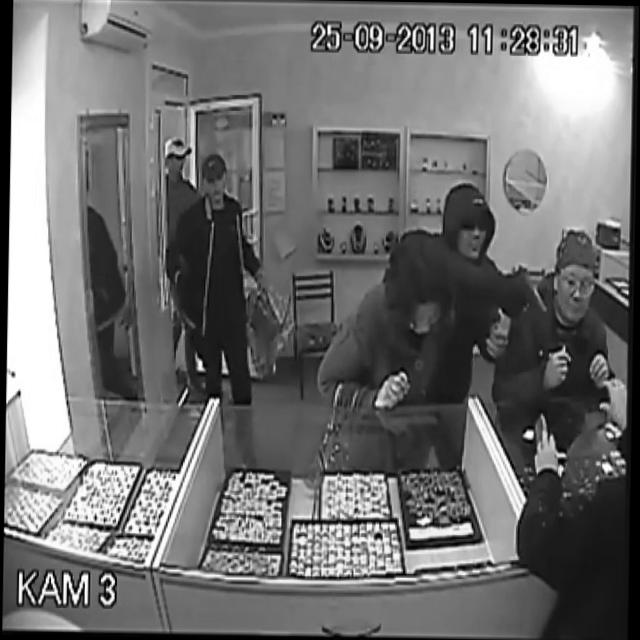gun: (490, 254, 556, 328)
person: (178, 160, 276, 376), (520, 225, 610, 379), (366, 232, 456, 364), (154, 136, 192, 219)
person with a gun: (428, 192, 558, 372)
